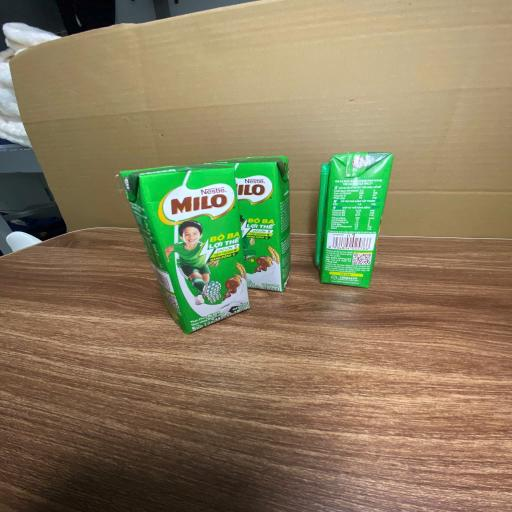milo: (119, 166, 251, 330), (319, 154, 390, 289), (235, 158, 289, 291)
